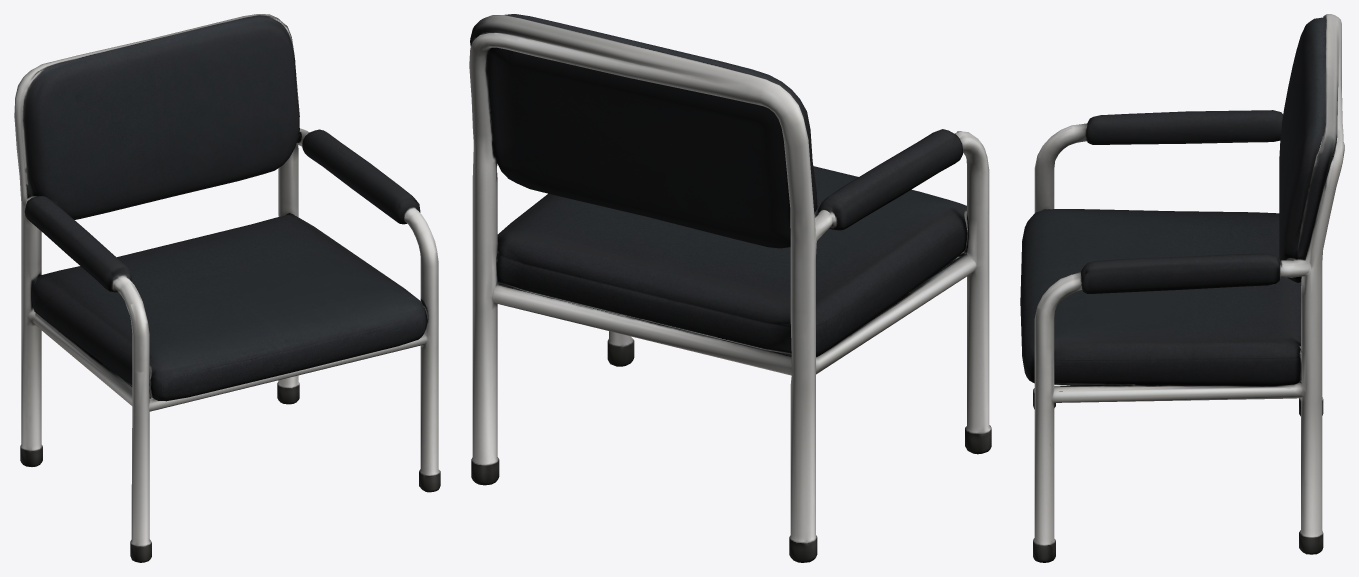
Rendered from office-chair-v67.glb.
The picture shows the model from 3 angles, left to right: view 1: azimuth 30°, elevation 25°; view 2: azimuth 150°, elevation 25°; view 3: azimuth 270°, elevation 25°; orthographic projection. The views are drawn at different scales.
Parts seen in each view (by area): view 1: office-chair-surface; view 2: office-chair-surface; view 3: office-chair-surface.
Part boxes in pixels (x1=…): office-chair-surface: x1=14, y1=14, x2=440, y2=562; office-chair-surface: x1=469, y1=14, x2=991, y2=562; office-chair-surface: x1=1020, y1=14, x2=1344, y2=562.
Size of the model in its own units: 0.915 by 1.09 by 0.7743.
1 material, 1 textured.
